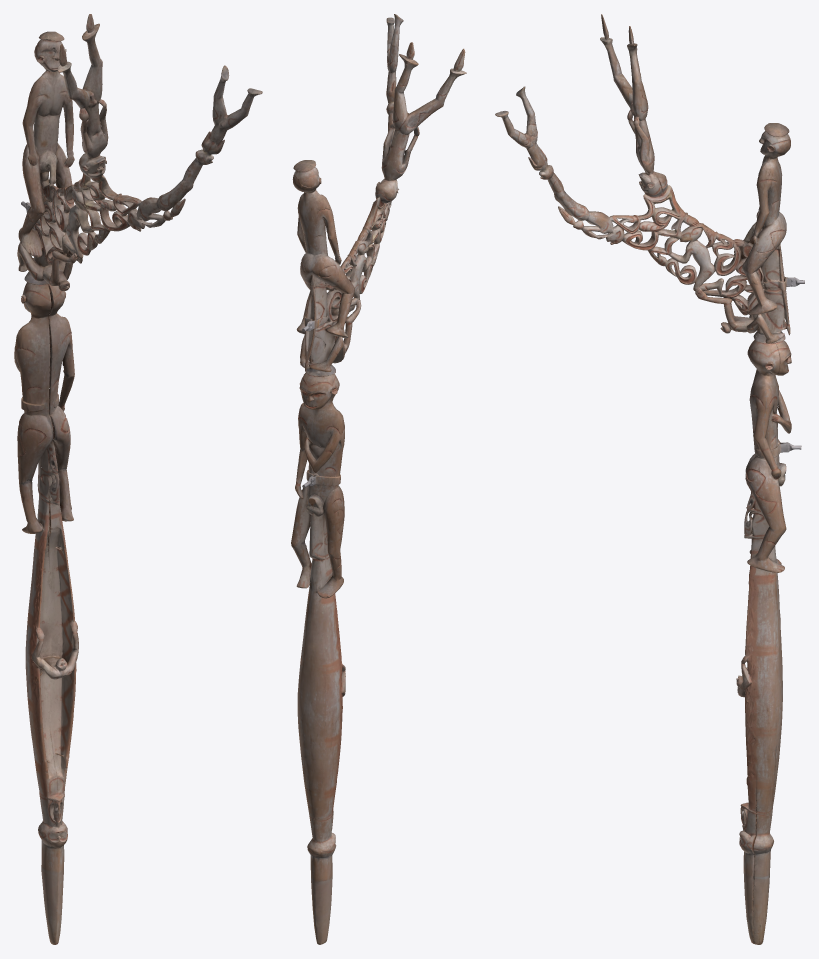
File: preview.glb
3 renders of one model, left to right at view 1: azimuth 30°, elevation 25°; view 2: azimuth 150°, elevation 25°; view 3: azimuth 270°, elevation 25°, orthographic. The views are drawn at different scales.
Visible parts, largest first — view 1: ADVIMG_1979_206_1611_BisPole_01_10Mil_Master_n3d; view 2: ADVIMG_1979_206_1611_BisPole_01_10Mil_Master_n3d; view 3: ADVIMG_1979_206_1611_BisPole_01_10Mil_Master_n3d.
Part boxes in pixels (<box>): ADVIMG_1979_206_1611_BisPole_01_10Mil_Master_n3d: <box>14,14,262,944</box>; ADVIMG_1979_206_1611_BisPole_01_10Mil_Master_n3d: <box>291,14,466,944</box>; ADVIMG_1979_206_1611_BisPole_01_10Mil_Master_n3d: <box>495,14,804,944</box>.
Bounding box in the file's own units: 0.782 × 5.01 × 1.56.
Materials: 1 (1 with a texture image).
